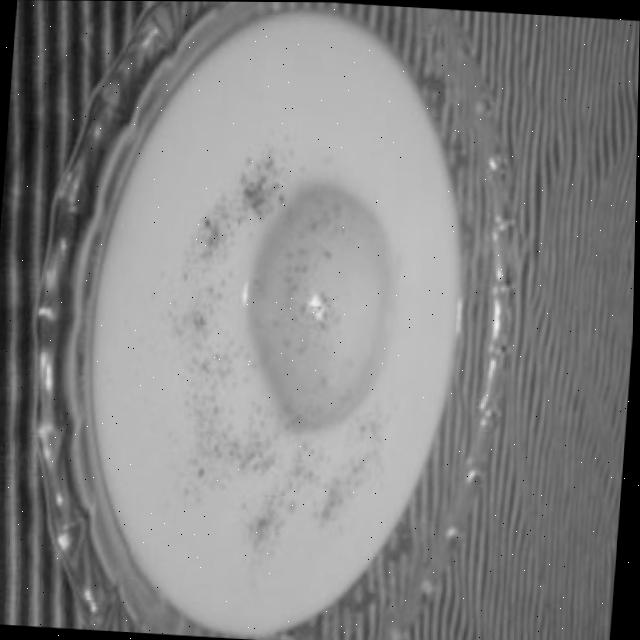鸡蛋料理: (16, 0, 542, 640)
